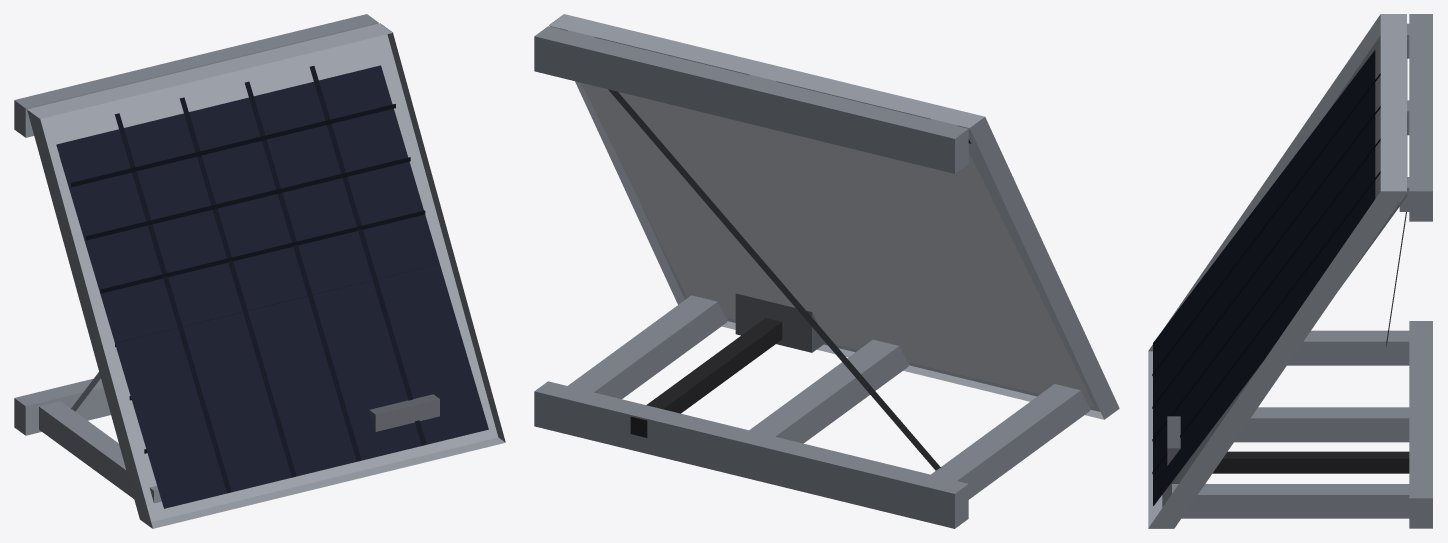
The model's file is array_ground_premium_clear_S.obj.
3 views of the same model, side by side, from view 1: azimuth 30°, elevation 25°; view 2: azimuth 150°, elevation 25°; view 3: azimuth 270°, elevation 25° (orthographic). The views are drawn at different scales.
Visible parts, largest first — view 1: array_ground_premium_clear_S; view 2: array_ground_premium_clear_S; view 3: array_ground_premium_clear_S.
Part boxes in pixels (box(x1,y1,x2,y2)): array_ground_premium_clear_S: box(14, 14, 505, 528); array_ground_premium_clear_S: box(534, 14, 1119, 528); array_ground_premium_clear_S: box(1148, 14, 1432, 528).
Bounding box in the file's own units: 0.881 × 0.781 × 0.5989.
1 material, 1 textured.
